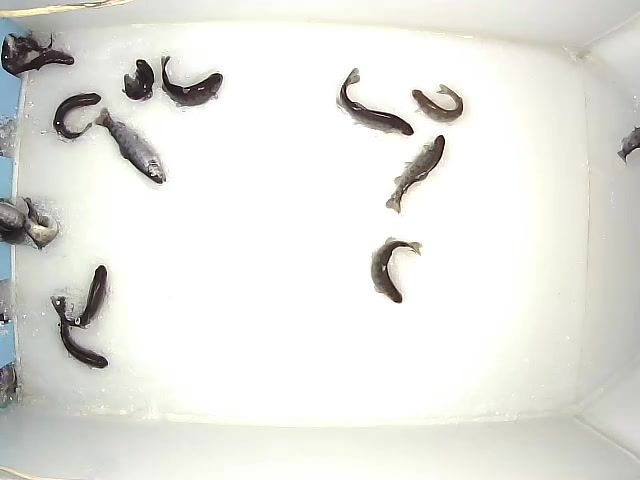fish: (94, 106, 167, 186), (336, 67, 414, 137), (385, 135, 447, 215), (51, 264, 108, 331), (371, 235, 424, 305), (160, 55, 224, 110), (59, 301, 107, 371), (412, 82, 464, 128), (52, 92, 101, 140), (21, 196, 59, 253), (6, 49, 75, 79), (123, 58, 156, 103)
